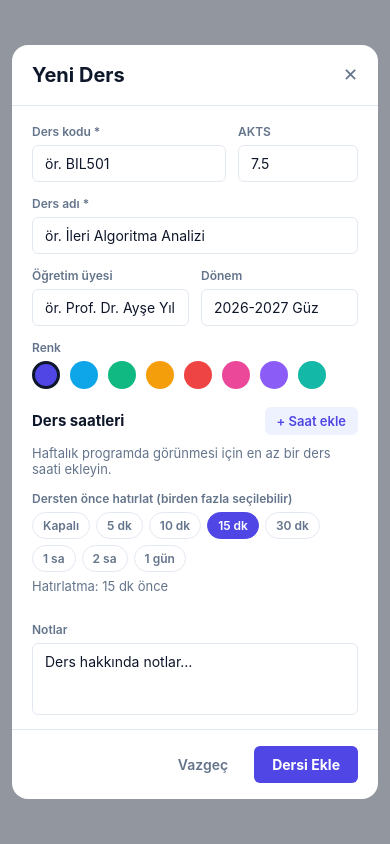
Test: CourseForm — doğrulama › geçersiz AKTS (0) reddedilir
Type "bil501" into the field with placeholder "ör. BIL501" at (129, 163), box x1=32 y1=145 x2=226 y2=182
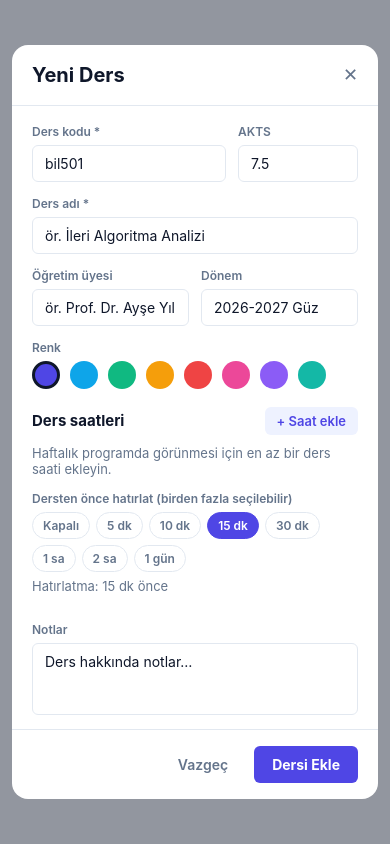
Type "Algoritmalar" into the field with placeholder "ör. İleri Algoritma Analizi" at (195, 235), box x1=32 y1=217 x2=358 y2=254
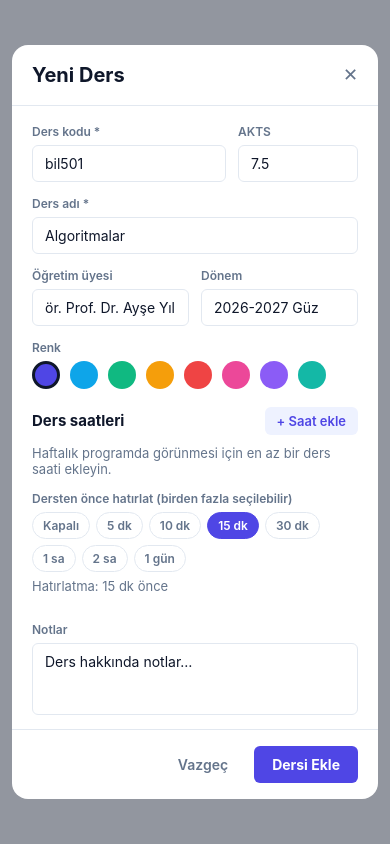
Replace the text in the field showing "7.5" below "AKTS" with "0" at (298, 163), box x1=238 y1=145 x2=358 y2=182
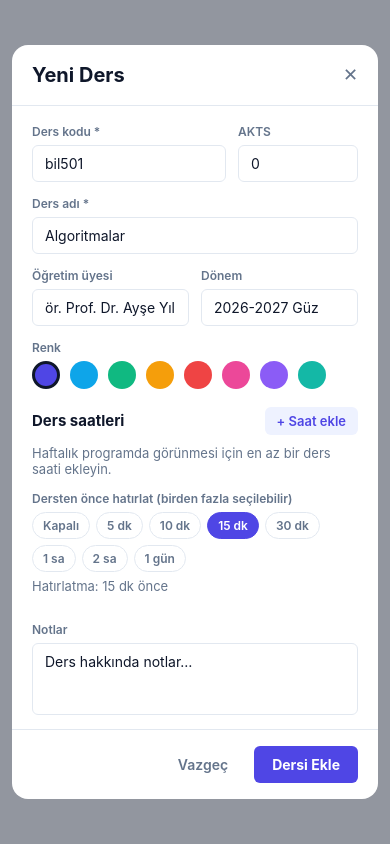
Click the text "Dersi Ekle" at (306, 765), box x1=272 y1=756 x2=340 y2=773
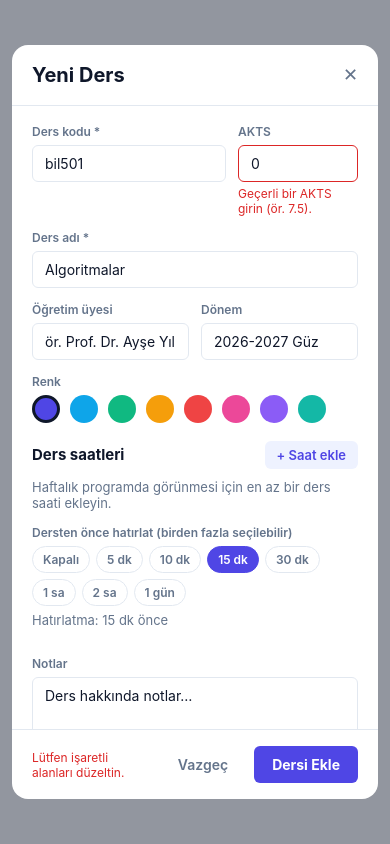
Expected: the text "Geçerli bir AKTS girin (ör. 7.5)." is shown, x1=238 y1=186 x2=335 y2=216
